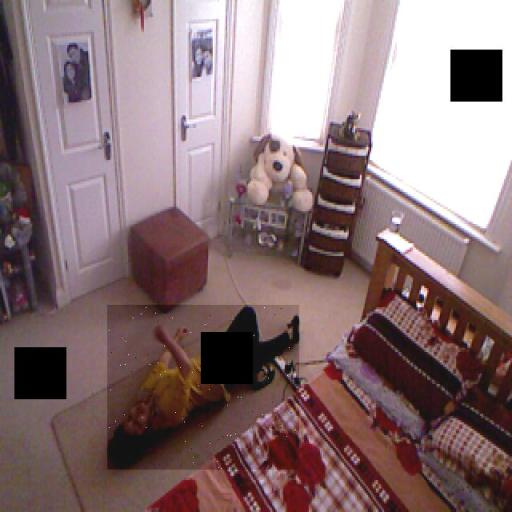Fall: (107, 305, 299, 470)
